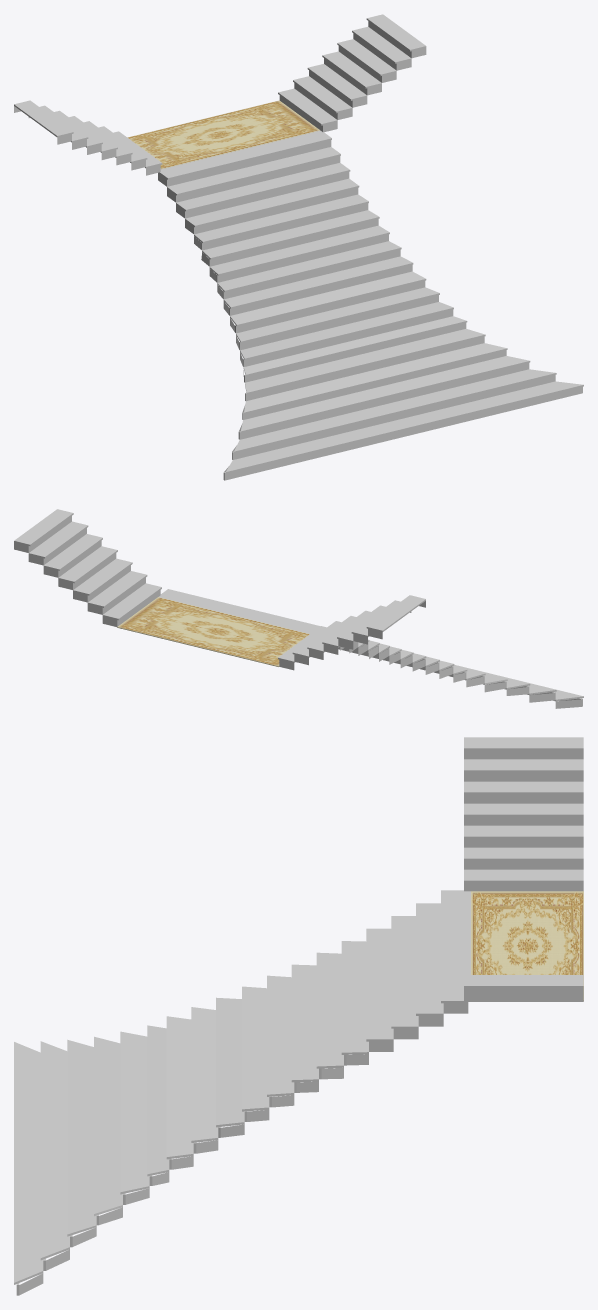
Rendered from stairs_hall.fbx.
3 views of the same model, one above another, from view 1: azimuth 30°, elevation 25°; view 2: azimuth 150°, elevation 25°; view 3: azimuth 270°, elevation 25° (orthographic). The views are drawn at different scales.
Visible parts, largest first — view 1: Stairs.002, Plane; view 2: Stairs.002, Plane; view 3: Stairs.002, Plane.
Boxes of the visible parts, <box> form: Stairs.002: <box>14,14,583,480</box>; Plane: <box>127,100,319,169</box>; Stairs.002: <box>14,509,583,708</box>; Plane: <box>117,597,309,666</box>; Stairs.002: <box>14,737,583,1295</box>; Plane: <box>471,891,583,1000</box>.
Bounding box in the file's own units: 475 × 280 × 461.
